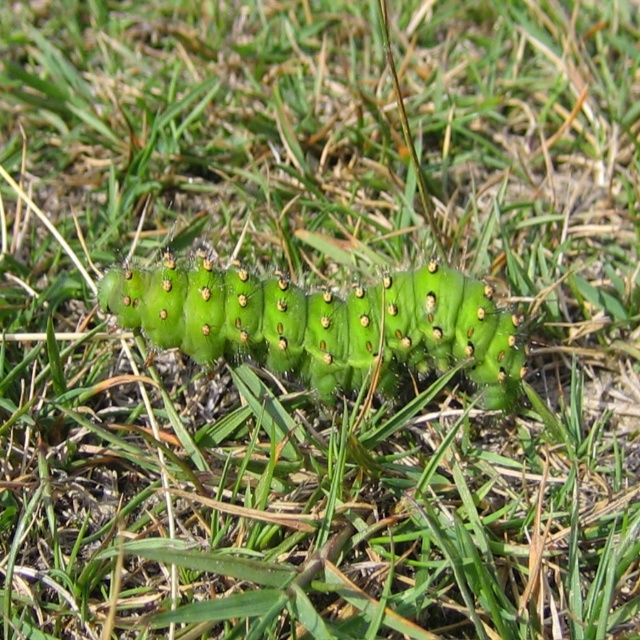Caterpillar: (95, 221, 548, 406)
